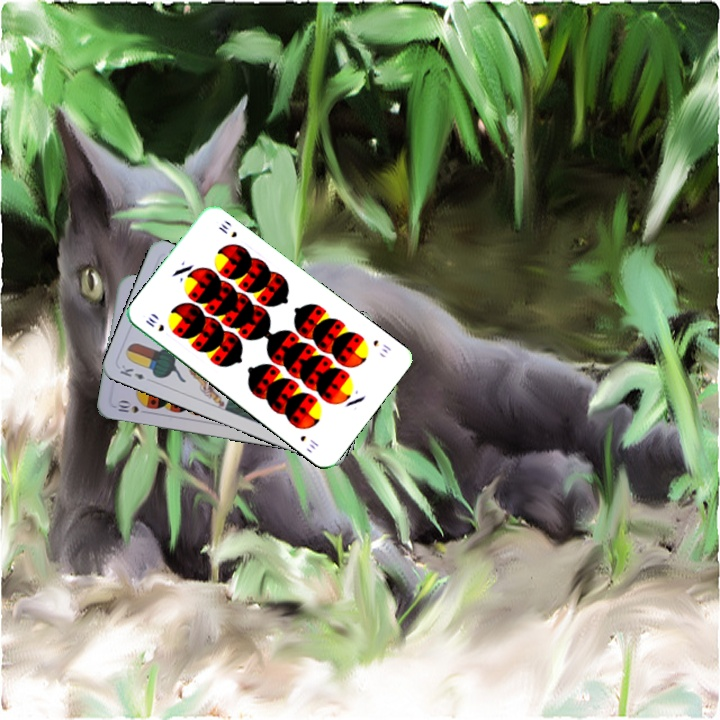EK: (116, 361, 147, 382)
S10: (141, 313, 167, 334), (113, 397, 141, 416), (369, 336, 394, 356)
